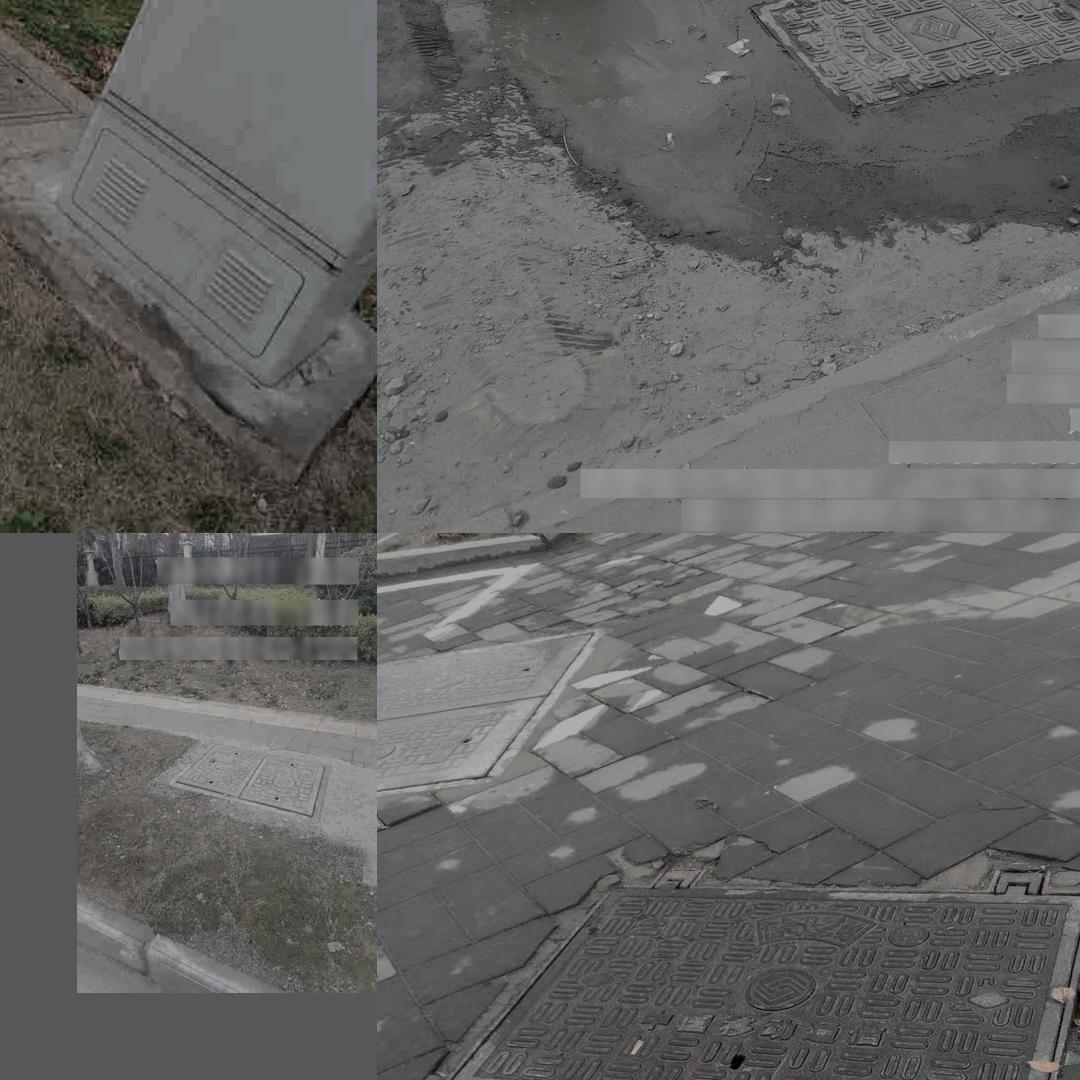good: (440, 873, 1080, 1080), (748, 0, 1080, 111), (377, 632, 598, 790), (167, 740, 329, 822), (0, 0, 86, 133)
